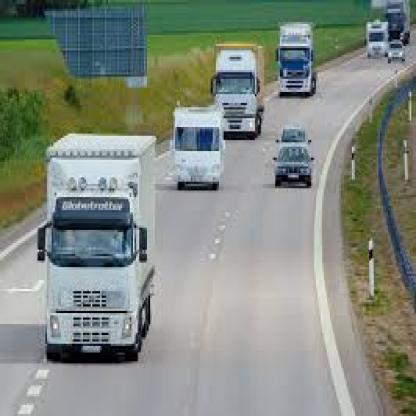car: (31, 131, 192, 373), (164, 101, 234, 194), (274, 8, 329, 122), (267, 133, 312, 193)
